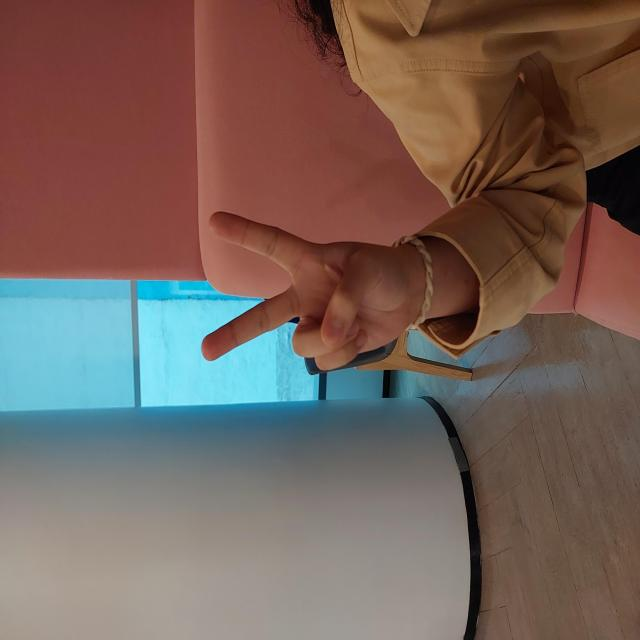V: (261, 196, 438, 423)
